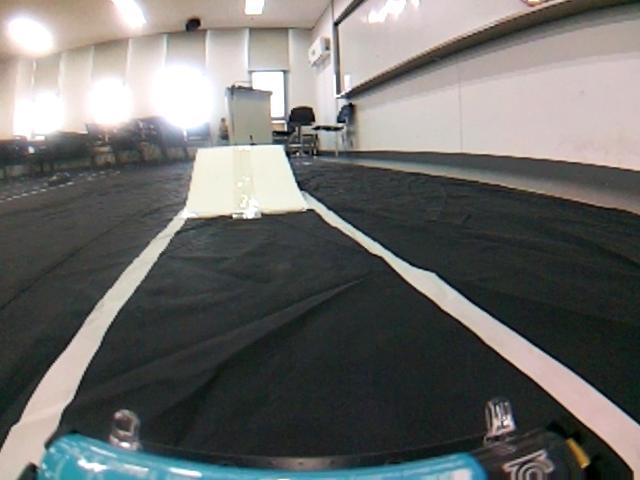hill_up: (7, 140, 640, 480), (195, 147, 305, 220)
